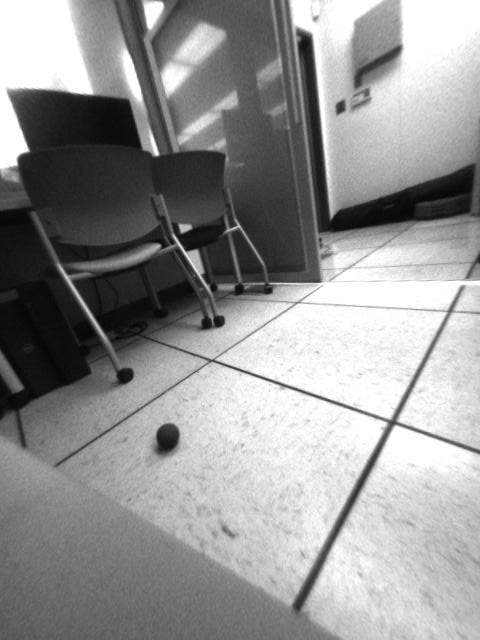dogtoy: (150, 416, 185, 461)
